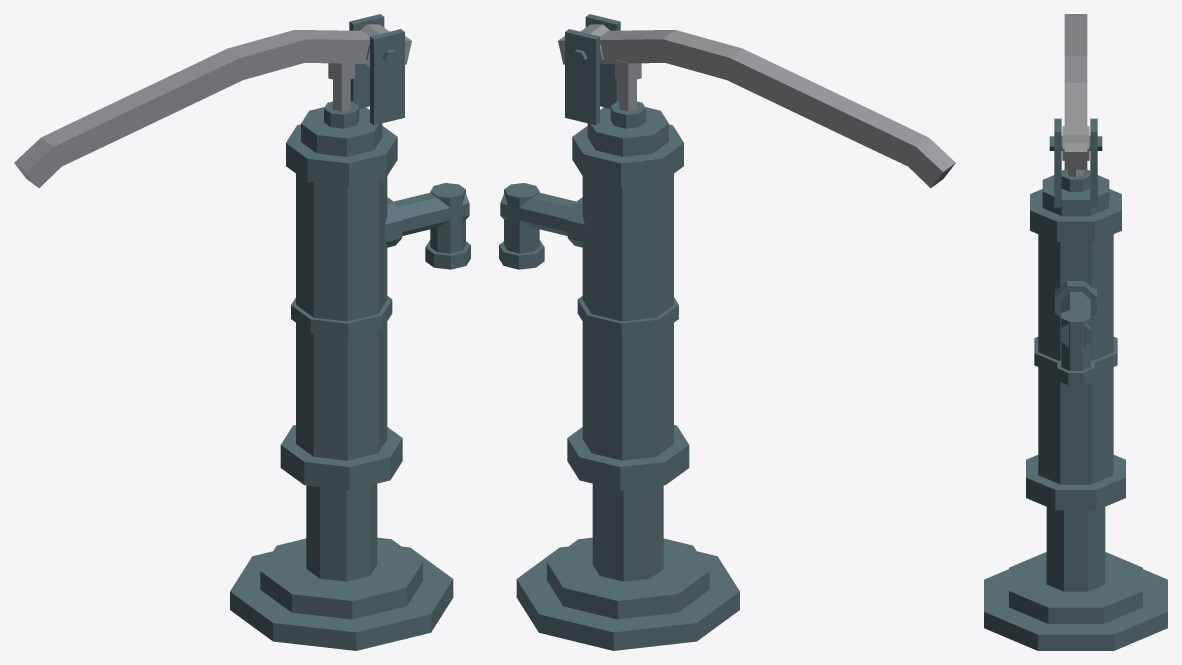
The model's file is HandPump.fbx.
3 views of the same model, side by side, from view 1: azimuth 30°, elevation 25°; view 2: azimuth 150°, elevation 25°; view 3: azimuth 270°, elevation 25° (orthographic). The views are drawn at different scales.
Parts seen in each view (by area): view 1: Pump_Body, Pump_Handle, Pump_PistonRod; view 2: Pump_Body, Pump_Handle, Pump_PistonRod; view 3: Pump_Body, Pump_Handle.
Part boxes in pixels (x1,y1,x2,y2): Pump_Body: [230, 14, 470, 650]; Pump_Handle: [14, 24, 411, 187]; Pump_PistonRod: [328, 59, 354, 111]; Pump_Body: [499, 14, 739, 650]; Pump_Handle: [558, 24, 955, 187]; Pump_PistonRod: [615, 59, 641, 111]; Pump_Body: [984, 118, 1167, 650]; Pump_Handle: [1062, 14, 1089, 169].
Size of the model in its own units: 101 by 125 by 40.65.
